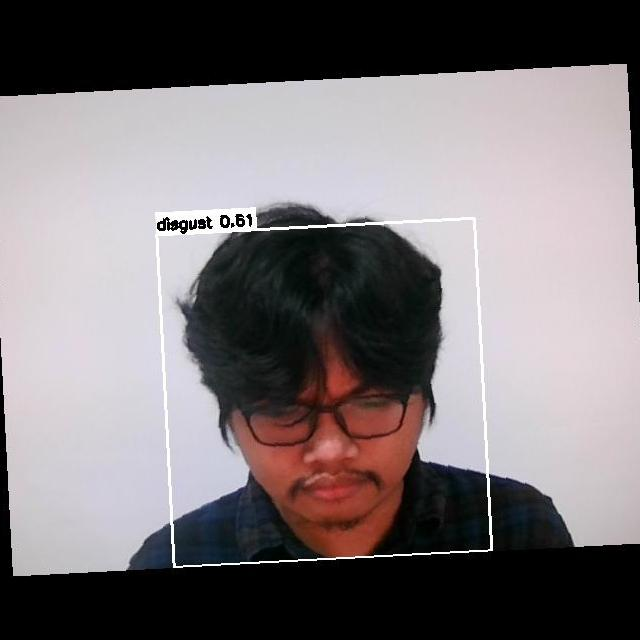Angry: (241, 377, 431, 506)
